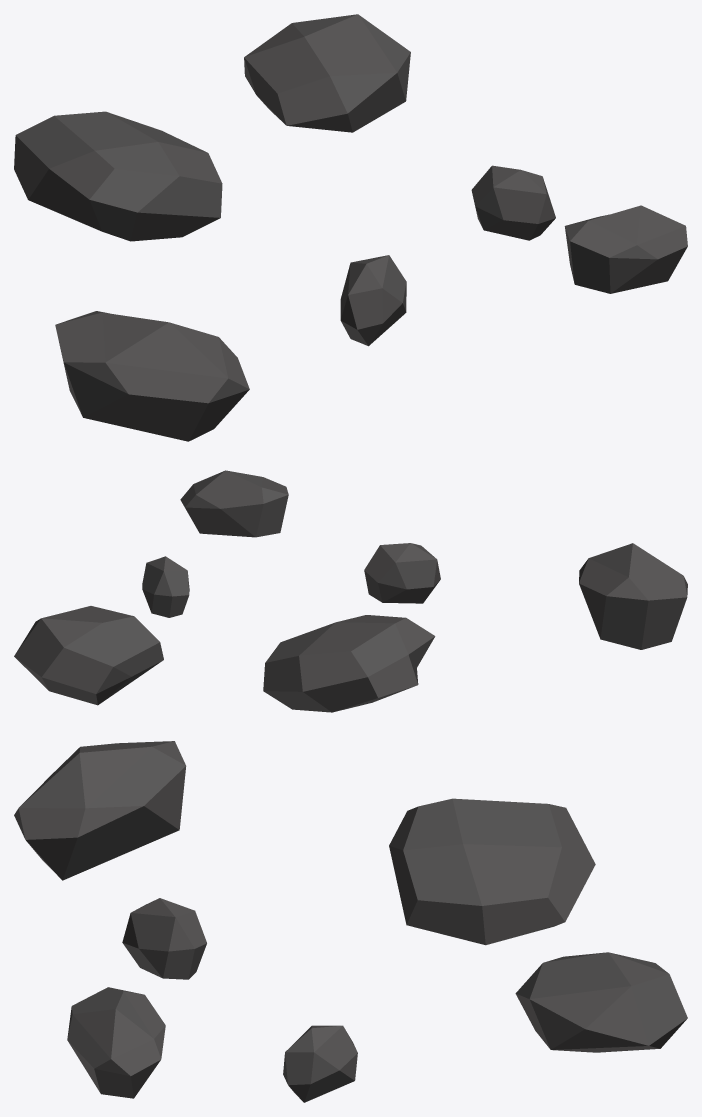
The model's file is RockStack_1.fbx.
3 views of the same model, one above another, from view 1: azimuth 30°, elevation 25°; view 2: azimuth 150°, elevation 25°; view 3: azimuth 270°, elevation 25° (orthographic). The views are drawn at different scales.
Visible parts, largest first — view 1: RockStack_1; view 2: RockStack_1; view 3: RockStack_1.
Boxes of the visible parts, left/top/right/bottom form: RockStack_1: left=14, top=14, right=687, bottom=441; RockStack_1: left=14, top=470, right=687, bottom=712; RockStack_1: left=14, top=741, right=687, bottom=1102.
Size of the model in its own units: 47.42 by 8.78 by 44.01.
